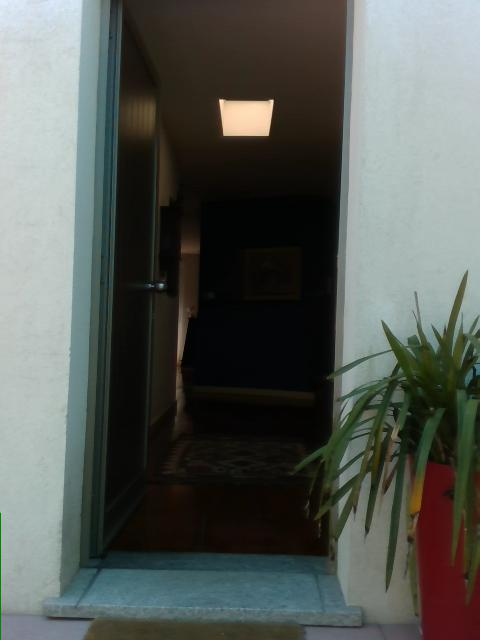door: (92, 1, 163, 558)
